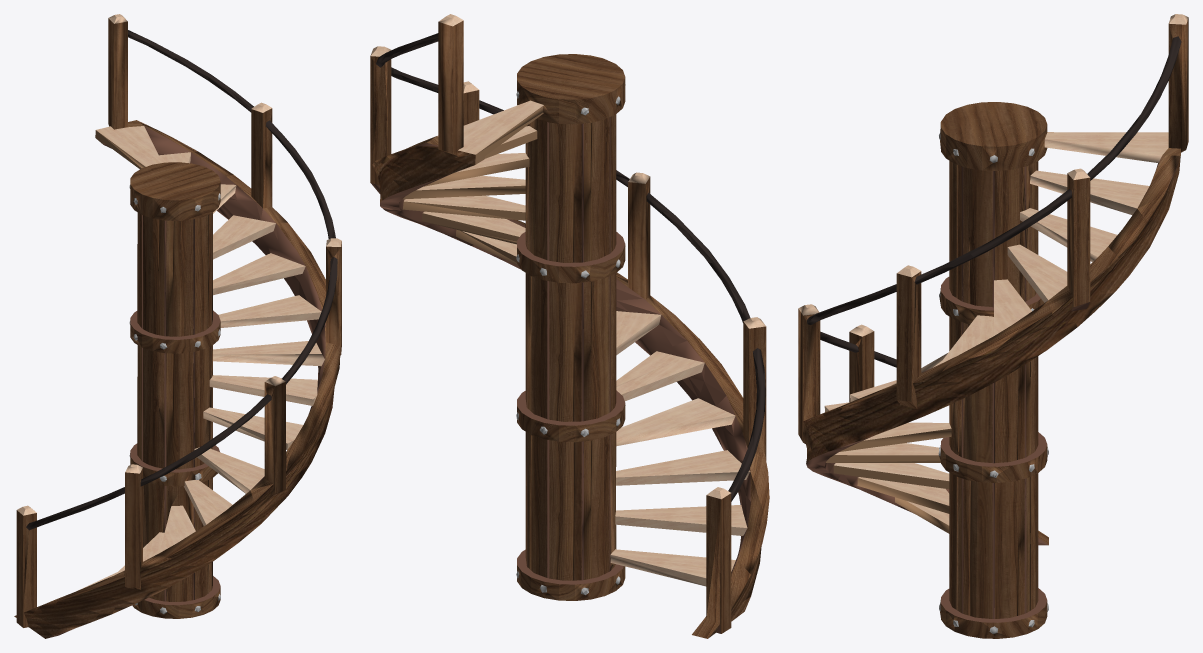
Rendered from staircase-texture.glb.
3 renders of one model, left to right at view 1: azimuth 30°, elevation 25°; view 2: azimuth 150°, elevation 25°; view 3: azimuth 270°, elevation 25°, orthographic. The views are drawn at different scales.
Parts seen in each view (by area): view 1: staircase; view 2: staircase; view 3: staircase.
Boxes of the visible parts, bbox=[...] form: staircase: bbox=[14, 14, 341, 638]; staircase: bbox=[370, 14, 769, 638]; staircase: bbox=[798, 14, 1188, 638].
Size of the model in its own units: 0.7958 by 1.38 by 0.7983.
Materials: 6 (2 with a texture image).
